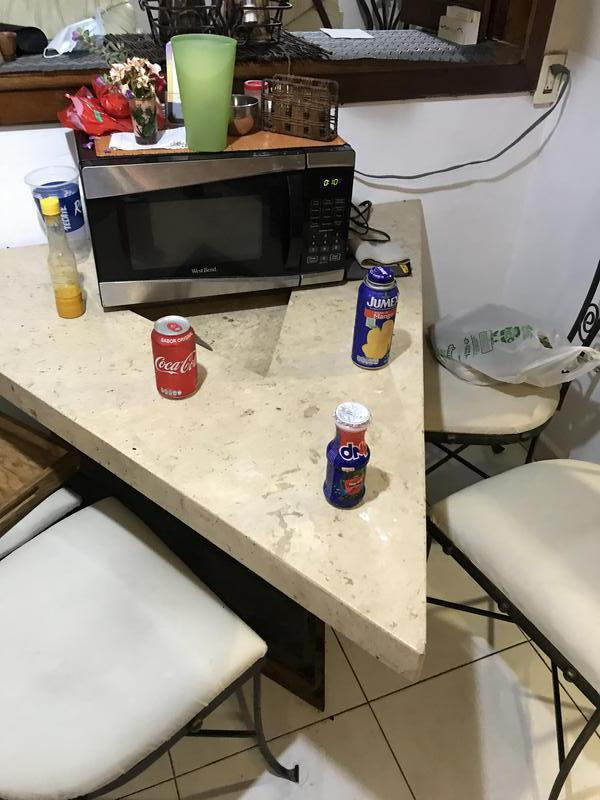coca_cola: (150, 317, 201, 400)
danup: (326, 404, 370, 510)
jugo_jumex: (354, 268, 396, 372)
